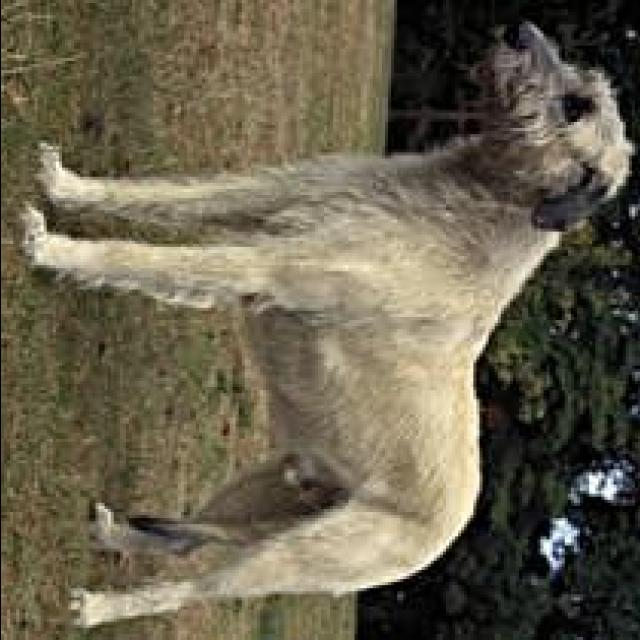irish_wolfhound: (15, 18, 640, 628)
